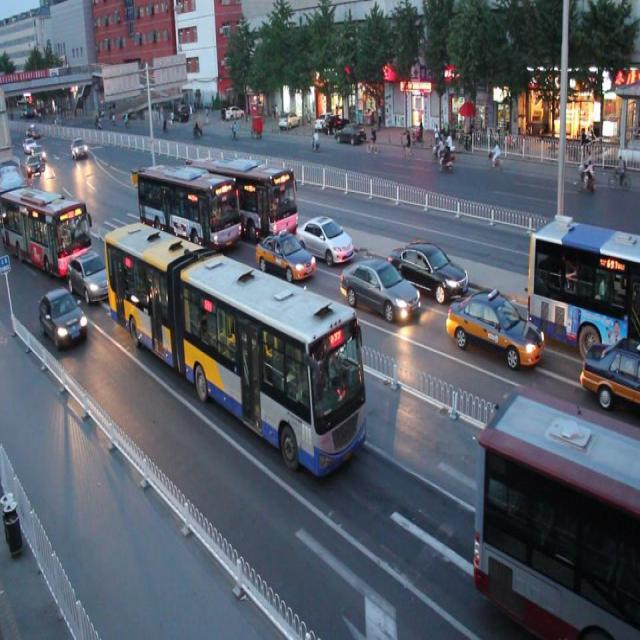car: (444, 294, 541, 371), (339, 257, 420, 325), (387, 240, 467, 304), (580, 334, 640, 407), (256, 231, 315, 283), (296, 212, 354, 263), (40, 287, 88, 348), (68, 245, 110, 302)
van: (105, 223, 366, 473), (475, 388, 639, 640), (526, 215, 640, 350), (138, 163, 240, 255), (202, 152, 298, 234), (1, 184, 89, 272)
